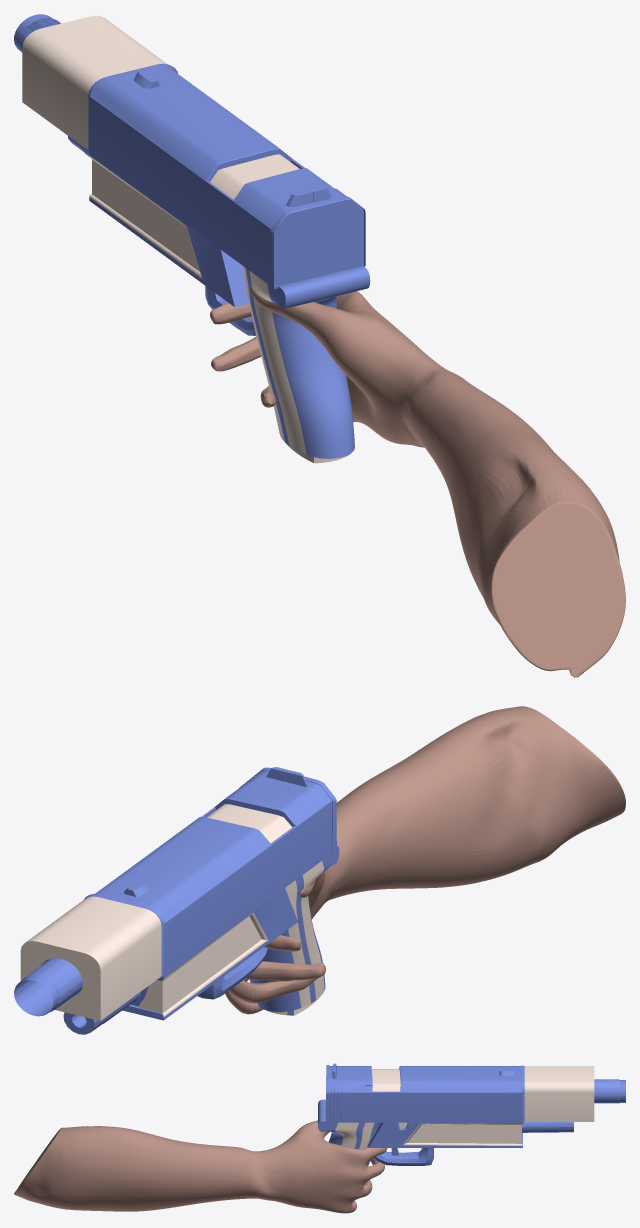
File: Hand with a gun.fbx
3 renders of one model, top to bottom at view 1: azimuth 30°, elevation 25°; view 2: azimuth 150°, elevation 25°; view 3: azimuth 270°, elevation 25°, orthographic. The views are drawn at different scales.
Parts seen in each view (by area): view 1: Cube.003, hand.001; view 2: Cube.003, hand.001; view 3: hand.001, Cube.003.
Part boxes in pixels (box(x1,y1,x2,y2)): Cube.003: box(14, 14, 370, 463); hand.001: box(210, 288, 625, 677); Cube.003: box(14, 767, 339, 1034); hand.001: box(225, 706, 625, 1014); hand.001: box(14, 1120, 387, 1213); Cube.003: box(318, 1063, 625, 1165).
Size of the model in its own units: 191 by 275 by 1075.
